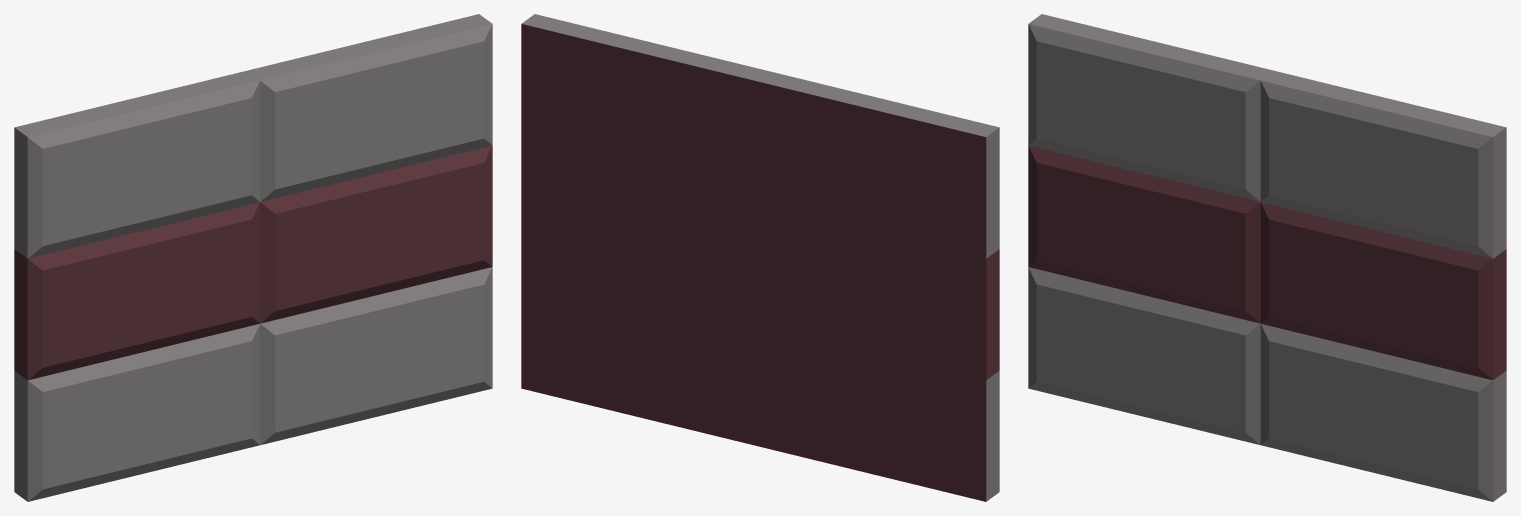
File: scifi-scifi-wall-stripe.glb
3 renders of one model, left to right at view 1: azimuth 30°, elevation 25°; view 2: azimuth 150°, elevation 25°; view 3: azimuth 330°, elevation 25°, orthographic.
Visible parts, largest first — view 1: scifi-wall-stripe; view 2: scifi-wall-stripe; view 3: scifi-wall-stripe.
Part boxes in pixels (box(x1,y1,x2,y2)): scifi-wall-stripe: box(14, 14, 492, 501); scifi-wall-stripe: box(521, 14, 999, 501); scifi-wall-stripe: box(1028, 14, 1506, 501).
Size of the model in its own units: 4 by 3 by 0.25.
